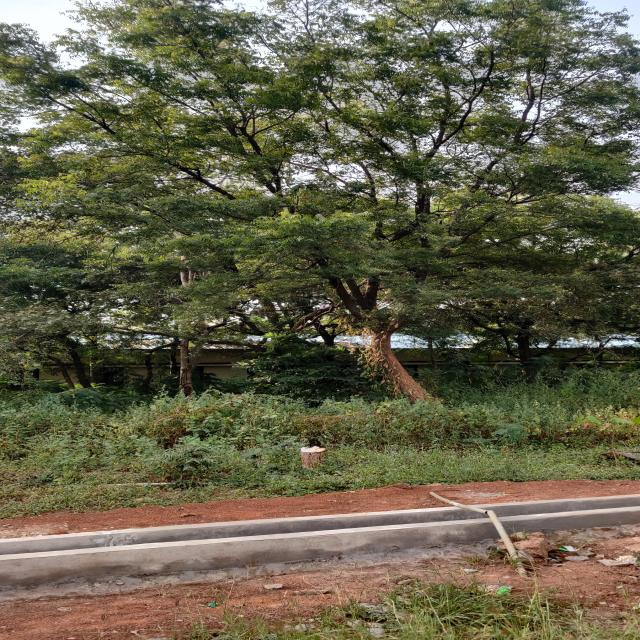Neem Tree: (68, 2, 616, 321)
